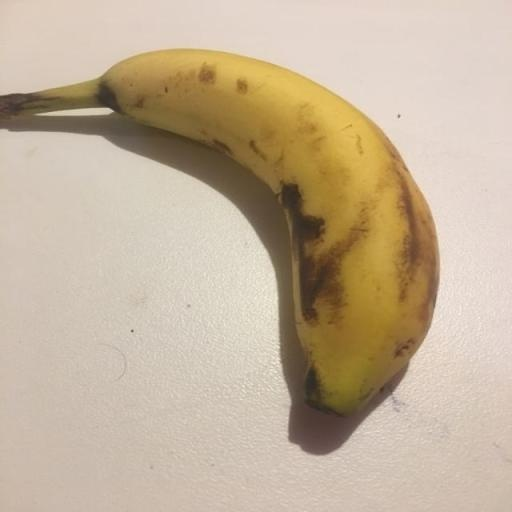fruit: (0, 50, 438, 415)
